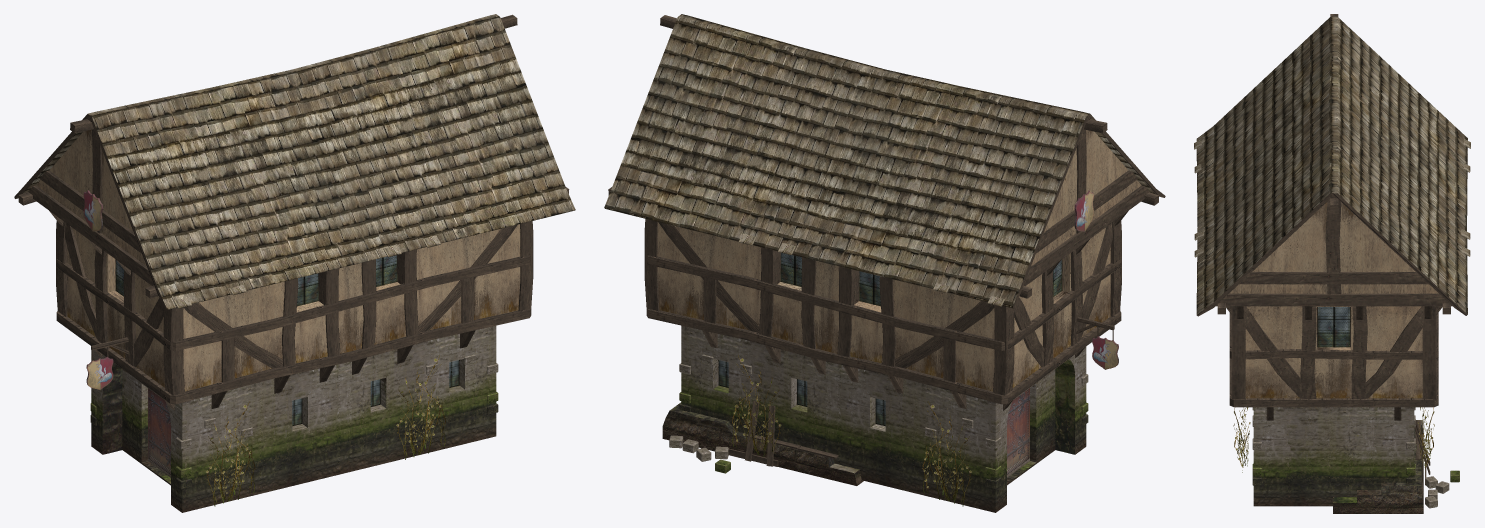
File: f1_house01.dae
3 renders of one model, left to right at view 1: azimuth 30°, elevation 25°; view 2: azimuth 150°, elevation 25°; view 3: azimuth 270°, elevation 25°, orthographic. The views are drawn at different scales.
Visible parts, largest first — view 1: f1_house01_Layer1; view 2: f1_house01_Layer1; view 3: f1_house01_Layer1.
Boxes of the visible parts, bbox=[...] form: f1_house01_Layer1: bbox=[14, 14, 575, 512]; f1_house01_Layer1: bbox=[604, 14, 1165, 512]; f1_house01_Layer1: bbox=[1194, 14, 1470, 513].
Bounding box in the file's own units: 11.27 × 9.2 × 6.89.
